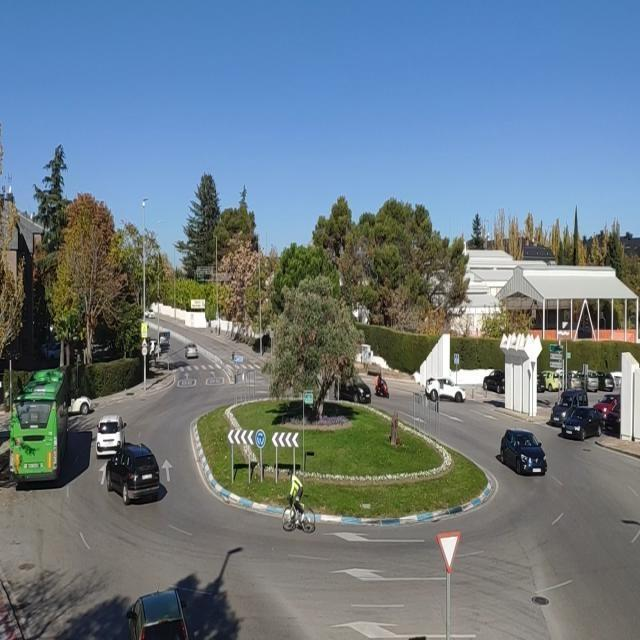Bus: (11, 369, 71, 488)
Car: (106, 443, 161, 506), (498, 427, 549, 475), (94, 412, 129, 459), (424, 374, 467, 403), (332, 374, 369, 403), (184, 343, 200, 361)
Cycle: (375, 372, 392, 400)
